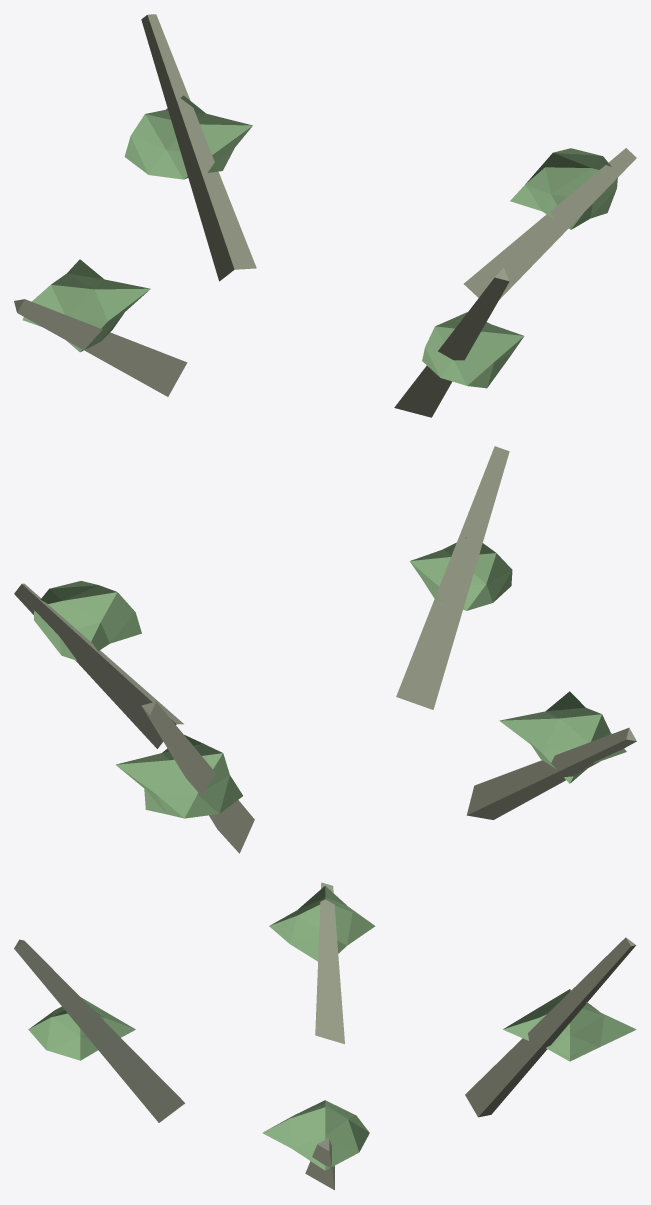
Rendered from bramble_v09.glb.
The picture shows the model from 3 angles, top to bottom: view 1: azimuth 30°, elevation 25°; view 2: azimuth 150°, elevation 25°; view 3: azimuth 270°, elevation 25°; orthographic projection. The views are drawn at different scales.
Parts seen in each view (by area): view 1: lod0; view 2: lod0; view 3: lod0.
Part boxes in pixels (x1=…): lod0: x1=14, y1=14, x2=636, y2=417; lod0: x1=14, y1=446, x2=636, y2=853; lod0: x1=14, y1=882, x2=636, y2=1190.
Size of what is drawn, in the model's own units: 0.7777 by 0.2535 by 0.7821.
